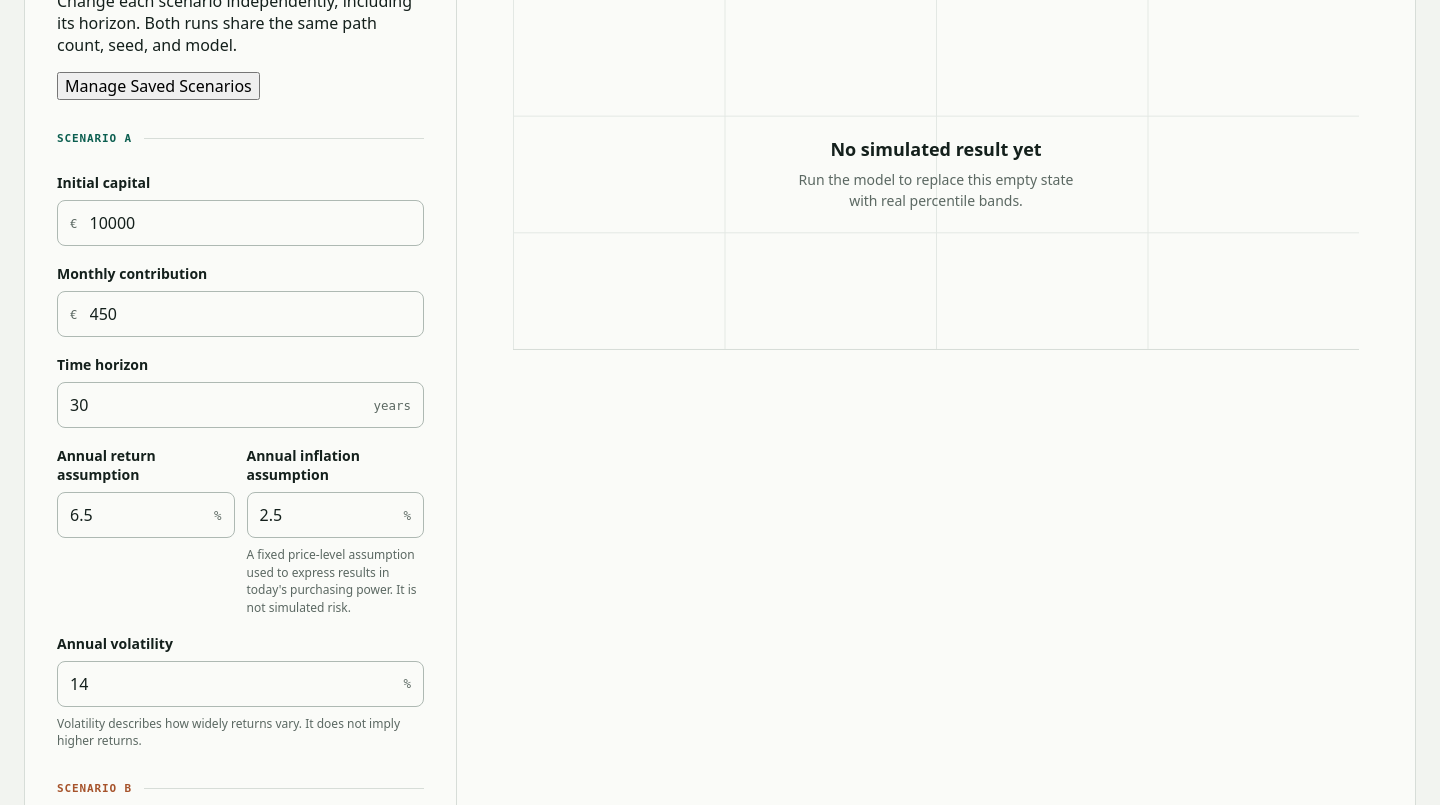
Scenario: MarketSim simulation workspace › clears a stale comparison as soon as either scenario changes
This screenshot has width=1440, height=805.
(page scrolled)
Replace the text in the number field labelled "Time horizon" with "1": (210, 405) [58,383,362,427]
(page scrolled)
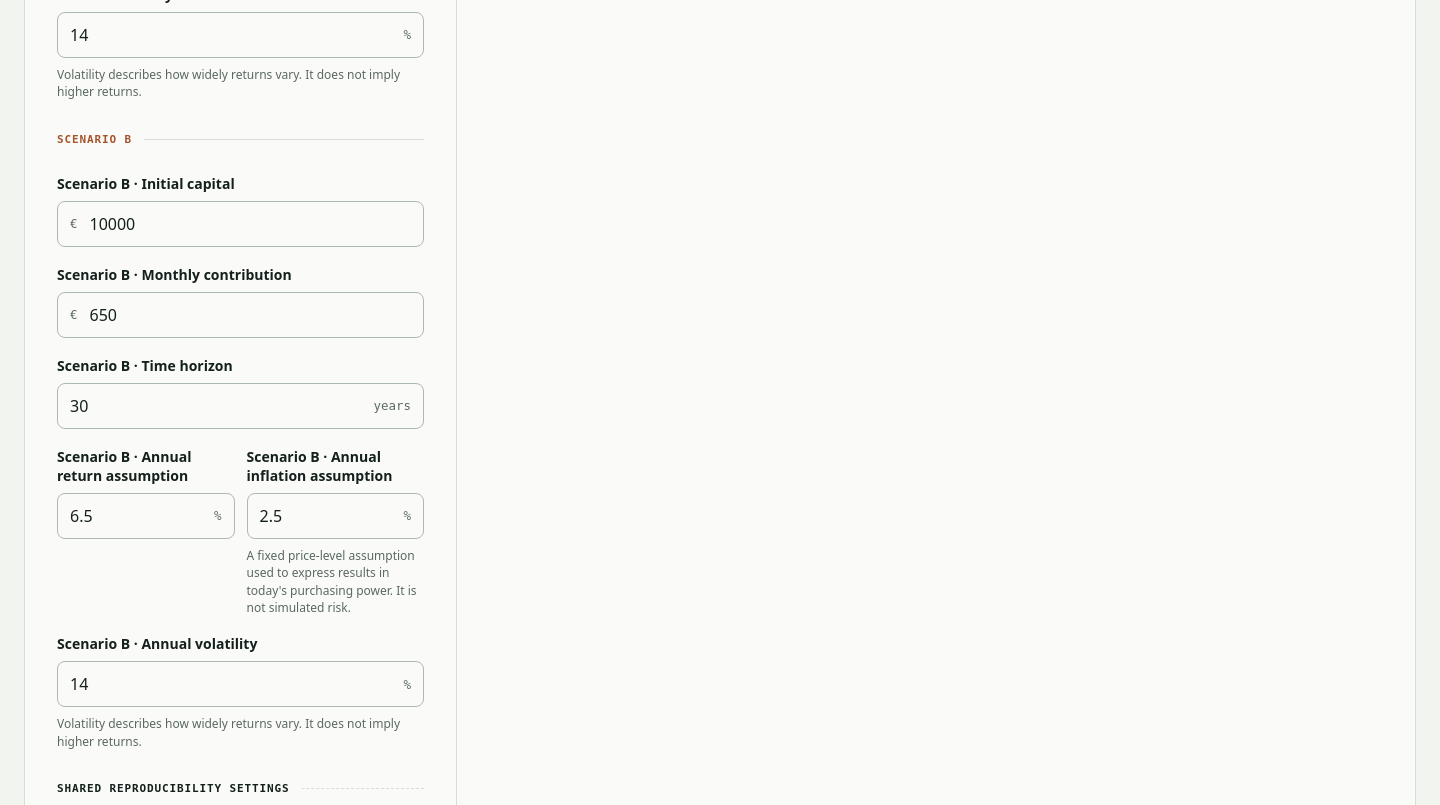
Replace the text in the number field labelled "Scenario B · Time horizon" with "2": (210, 406) [58,384,362,428]
(page scrolled)
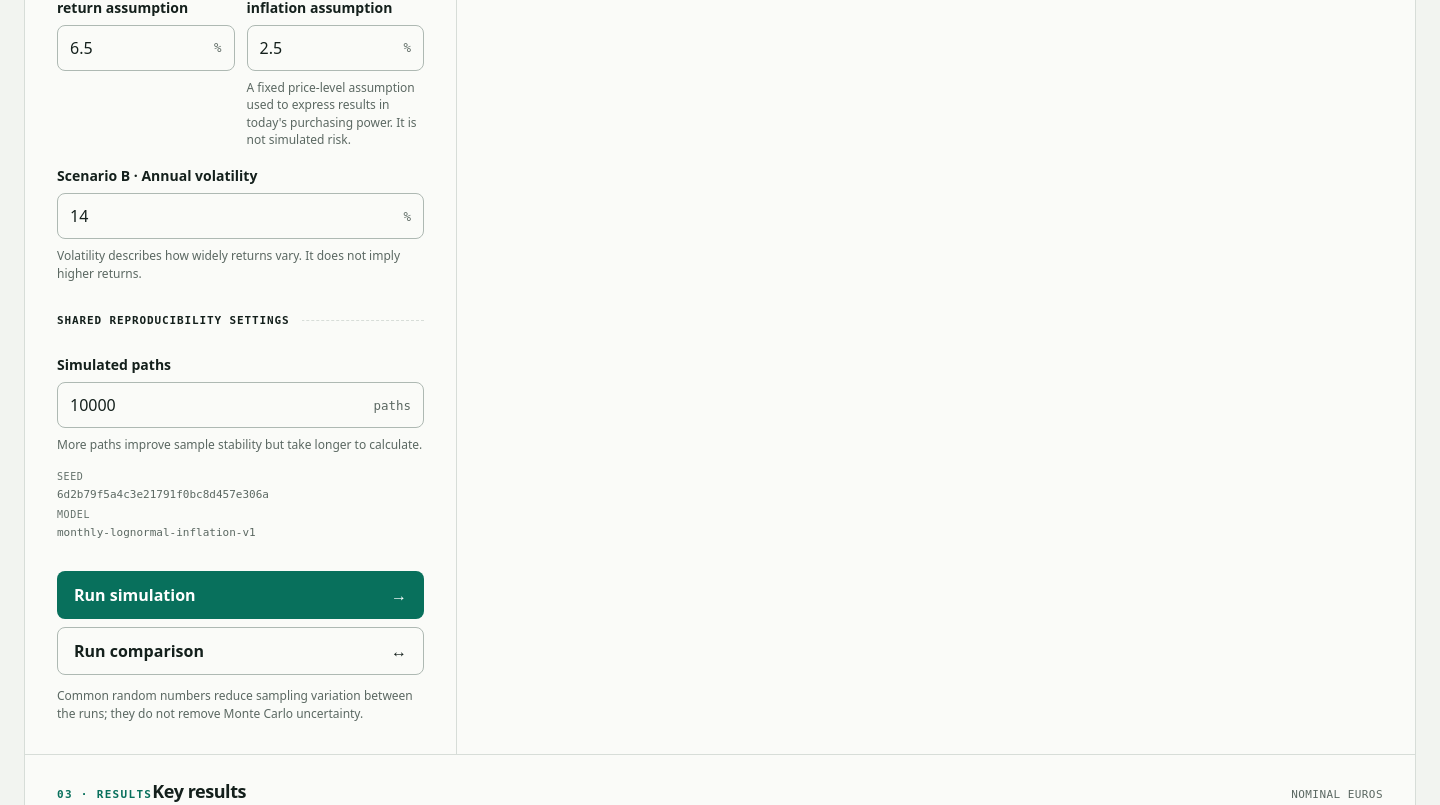
Replace the text in the number field labelled "Simulated paths" with "32": (210, 405) [58,383,362,427]
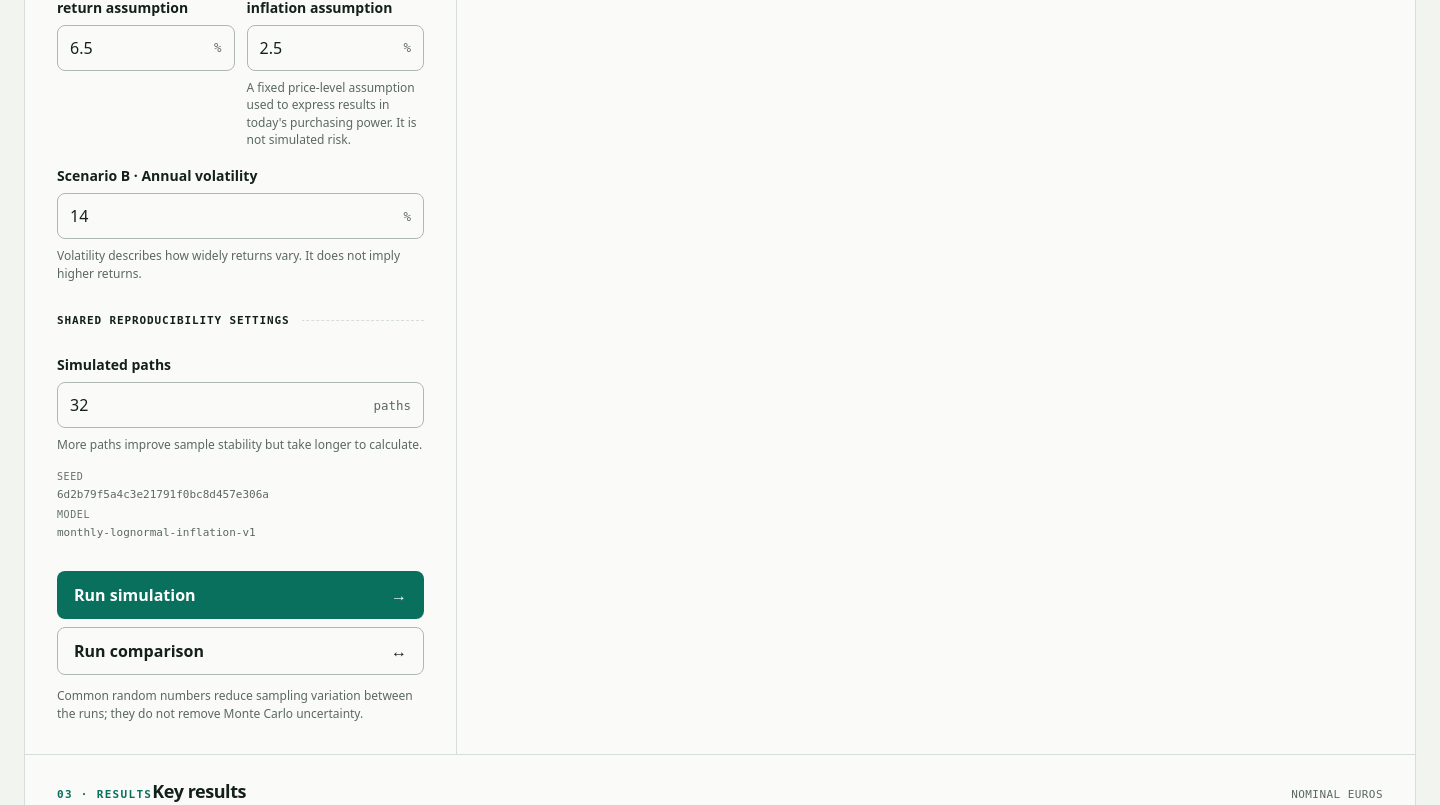
Click the button "Run comparison ↔": click(139, 651) [57,628,424,676]
(page scrolled)
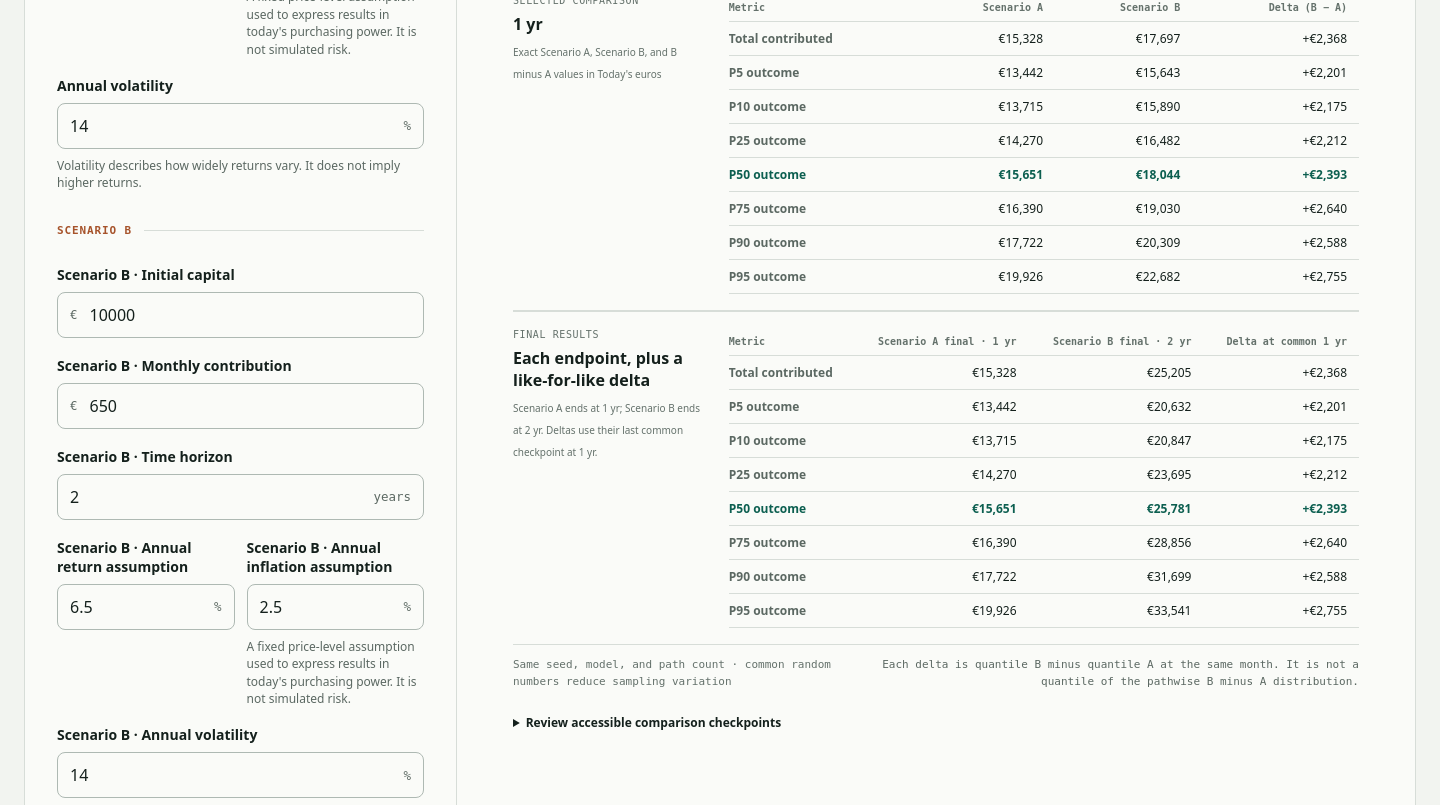
Replace the text in the number field labelled "Scenario B · Monthly contribution" with "800": (256, 406) [90,384,423,428]
(page scrolled)
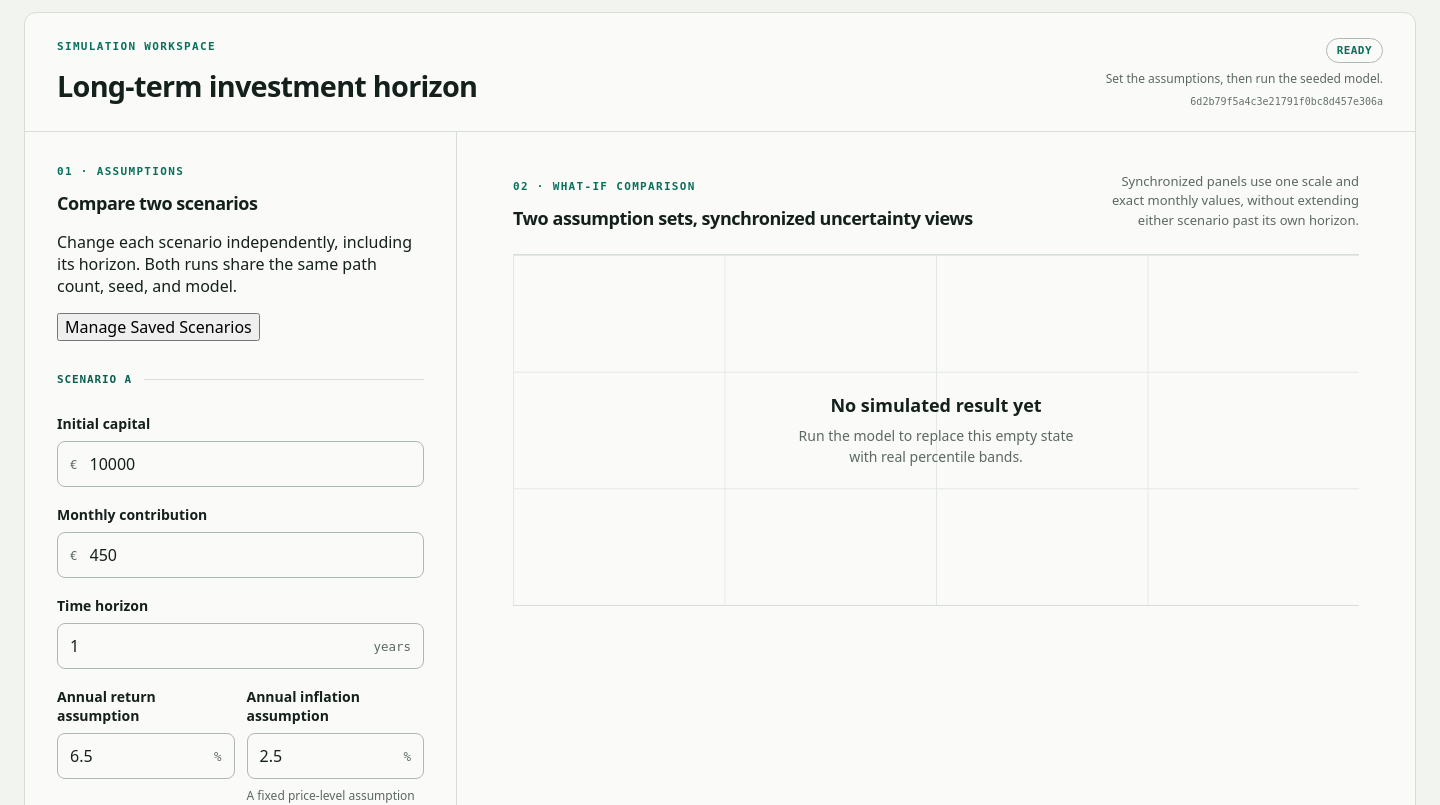
Now the text "No simulated result yet" is shown, box [830,394,1042,418]
